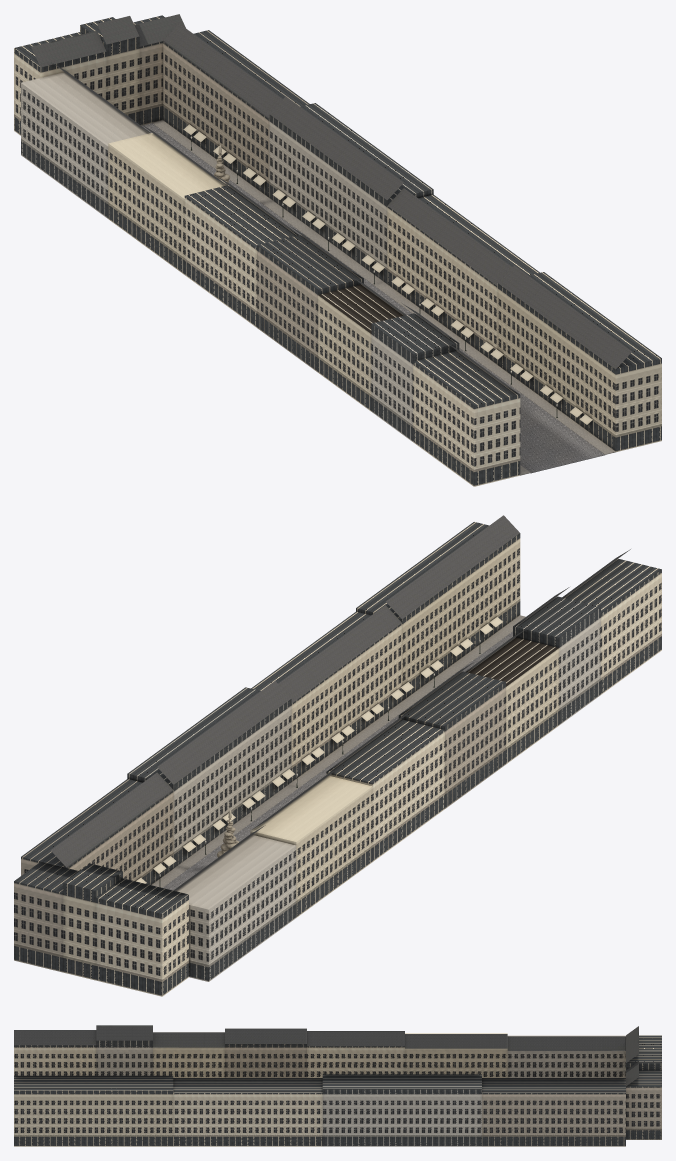
The model's file is lamarr-vienna-graben.glb.
3 views of the same model, one above another, from view 1: azimuth 30°, elevation 25°; view 2: azimuth 150°, elevation 25°; view 3: azimuth 270°, elevation 25° (orthographic). The views are drawn at different scales.
Visible parts, largest first — view 1: artifact_street_front_right, front_right_2, artifact_street_front_left, front_left_6, front_right_1, front_right_3, front_left_5, front_left_4, front_left_3, front_left_2, front_left_1, sidewalk_right (+12 smaller); view 2: front_right_2, artifact_street_front_right, front_left_6, front_right_1, front_far_0, front_left_5, front_left_4, front_left_3, artifact_street_front_left, front_right_3, front_left_2, front_left_1 (+9 smaller); view 3: front_right_2, artifact_street_front_right, front_right_1, front_right_3, front_left_6, front_left_4, front_left_3, front_left_5, artifact_street_front_left, front_far_2, front_left_2, front_left_1 (+11 smaller).
Boxes of the visible parts, box(x1,y1,x2,y2) form: artifact_street_front_right: box(497, 272, 661, 452); front_right_2: box(269, 103, 433, 283); artifact_street_front_left: box(413, 350, 520, 486); front_left_6: box(21, 72, 150, 218); front_right_1: box(387, 194, 539, 364); front_right_3: box(162, 30, 309, 197); front_left_5: box(108, 133, 226, 274); front_left_4: box(184, 185, 298, 327); front_left_3: box(257, 234, 363, 372); front_left_2: box(318, 284, 404, 411); front_left_1: box(371, 313, 459, 441); sidewalk_right: box(152, 120, 615, 454); front_right_2: box(127, 687, 291, 868); artifact_street_front_right: box(356, 522, 520, 701); front_left_6: box(175, 835, 296, 981); front_right_1: box(251, 611, 401, 781); front_far_0: box(96, 878, 188, 996); front_left_5: box(250, 776, 372, 917); front_left_4: box(326, 719, 444, 861); front_left_3: box(398, 671, 505, 808); artifact_street_front_left: box(563, 558, 661, 694); front_right_3: box(21, 779, 173, 885); front_left_2: box(466, 637, 559, 764); front_left_1: box(513, 596, 600, 725); front_right_2: box(322, 1074, 481, 1146); artifact_street_front_right: box(14, 1075, 173, 1146); front_right_1: box(173, 1078, 322, 1146); front_right_3: box(482, 1078, 625, 1146); front_left_6: box(507, 1035, 625, 1077); front_left_4: box(307, 1031, 404, 1077); front_left_3: box(225, 1028, 306, 1077); front_left_5: box(405, 1033, 507, 1077); artifact_street_front_left: box(14, 1030, 96, 1075); front_far_2: box(626, 1070, 661, 1139); front_left_2: box(153, 1032, 224, 1077); front_left_1: box(96, 1025, 152, 1075).
Size of what is drawn, in the model's own units: 57 by 30.1 by 252.
Materials: 8 (7 with a texture image).
